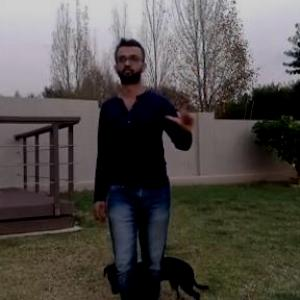land_hand: (162, 92, 198, 129)
